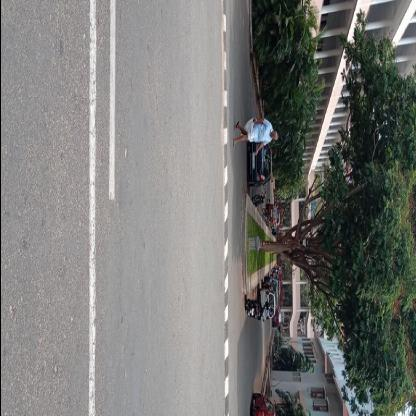speed-bumps: (214, 1, 236, 415)
